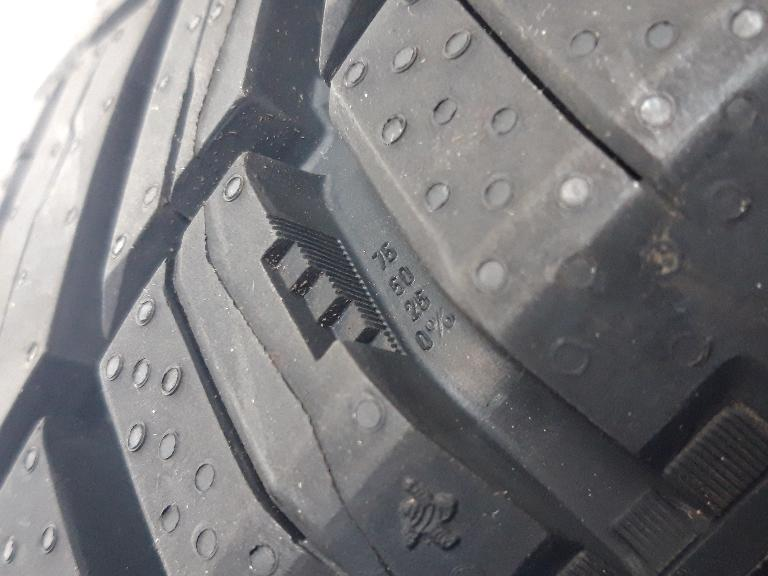temoin:100: (250, 206, 416, 374)
